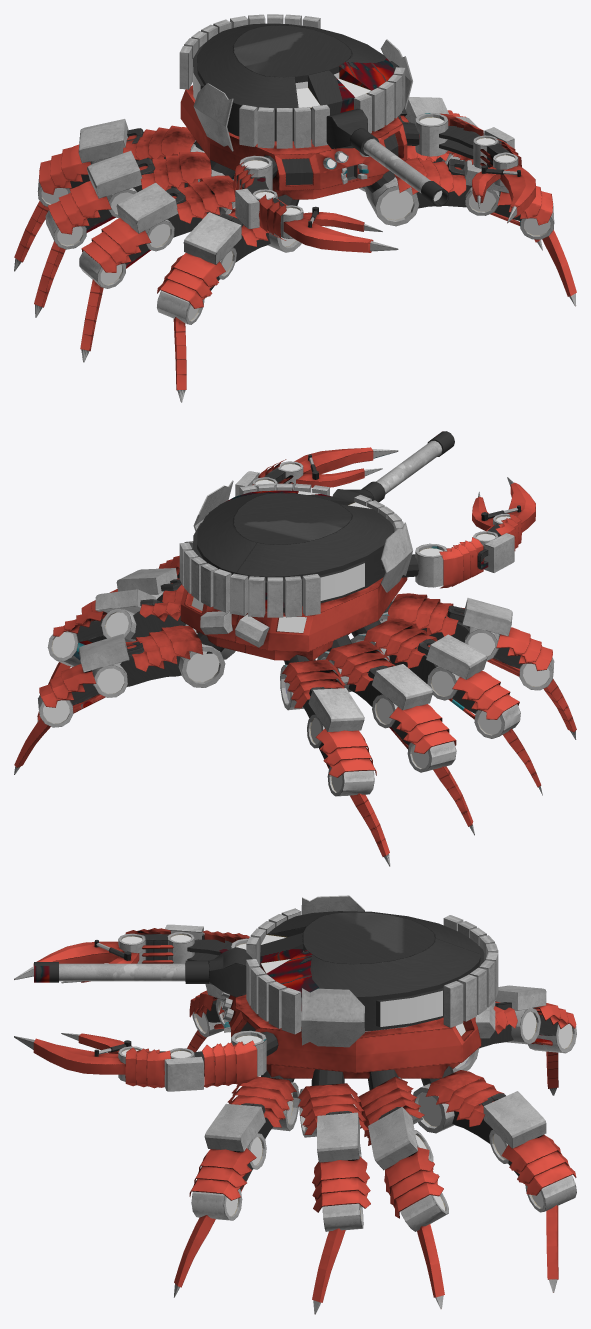
The model's file is crab04201.fbx.
3 renders of one model, top to bottom at view 1: azimuth 30°, elevation 25°; view 2: azimuth 150°, elevation 25°; view 3: azimuth 270°, elevation 25°, orthographic. The views are drawn at different scales.
Visible parts, largest first — view 1: crabBody, crabHead, crabGun; view 2: crabBody, crabHead, crabGun; view 3: crabBody, crabHead, crabGun.
Boxes of the visible parts, x1,y1,x2,y2 form: crabBody: (14,85,576,402); crabHead: (179,14,412,151); crabGun: (326,108,448,206); crabBody: (14,447,576,866); crabHead: (179,480,412,617); crabGun: (332,431,454,502); crabBody: (14,924,576,1314); crabHead: (246,895,498,1047); crabGun: (34,947,252,997).
Size of the model in its own units: 554 by 274 by 545.
